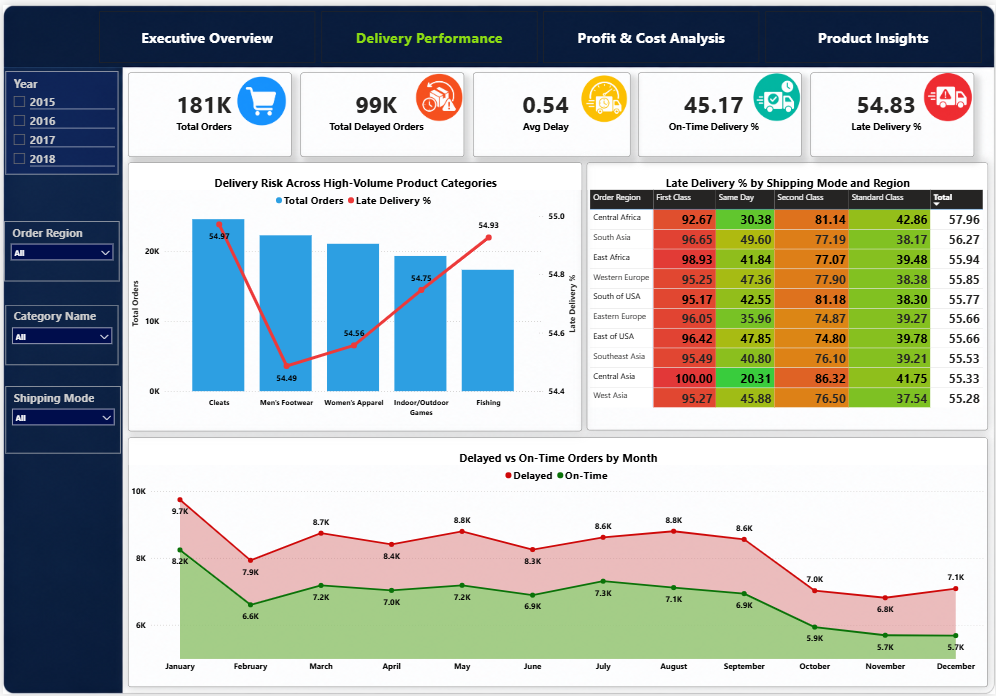

The dashboard page shown, as its layout file describes it:
{"tool":"powerbi","page":{"name":"Delivery Performance","canvas":[1652,1149],"ordinal":1},"visuals":[{"type":"card","title":"Total Revenue","fields":{"Values":["Measure.Total Orders"]},"box":[209,112,273.1,141],"z":0,"group":"g2"},{"type":"pivotTable","title":"Late Delivery % by Shipping Mode and Region","fields":{"Rows":["final_supply_chain_analytics.Order Region"],"Columns":["final_supply_chain_analytics.Shipping Mode"],"Values":["Measure.Late Delivery %"]},"box":[972,263,669,446],"z":0},{"type":"card","title":"Avg Delay","fields":{"Values":["Measure.On-Time Delivery %"]},"box":[1059.8,112,273.1,141],"z":1000,"group":"g2"},{"type":"lineChart","title":"Delayed vs On-Time Orders by Month","fields":{"Y":["CountNonNull(final_supply_chain_analytics.Delivery Status Group)"],"Series":["final_supply_chain_analytics.Delivery Status Group"],"Category":["final_supply_chain_analytics.order date (DateOrders).Variation.Date Hierarchy.Month"]},"box":[208,720,1433,416],"z":1000},{"type":"group","id":"g1","title":"Group 2","box":[209,112,1411,141],"z":2000},{"type":"card","title":"Total Order","fields":{"Values":["Measure.Avg Delay"]},"box":[783.2,112,262.5,141],"z":2000,"group":"g2"},{"type":"image","box":[384,112,96,96],"z":3000},{"type":"card","title":"Total Profit","fields":{"Values":["Measure.Total Delayed Orders"]},"box":[496.1,112,273.1,141],"z":3000,"group":"g2"},{"type":"card","title":"Late Delivery %","fields":{"Values":["Measure.Late Delivery %"]},"box":[1346.9,112,273.1,141],"z":4000,"group":"g2"},{"type":"lineClusteredColumnComboChart","title":"Delivery Risk Across High-Volume Product Categories","fields":{"Category":["final_supply_chain_analytics.Category Name"],"Y":["Measure.Total Orders"],"Y2":["Measure.Late Delivery %"]},"box":[208,263,757,448],"z":4000},{"type":"group","id":"g2","title":"Group 1","box":[209,112,1411,141],"z":4003,"group":"g1"},{"type":"image","box":[1242,107,96,96],"z":5000},{"type":"image","box":[679,107,96,96],"z":6000},{"type":"slicer","fields":{"Values":["final_supply_chain_analytics.Year"]},"box":[4,110,188,172],"z":7000},{"type":"slicer","fields":{"Values":["final_supply_chain_analytics.Order Region"]},"box":[3,360,192,100],"z":8000},{"type":"slicer","fields":{"Values":["final_supply_chain_analytics.Category Name"]},"box":[4,501,188,100],"z":9000},{"type":"slicer","fields":{"Values":["final_supply_chain_analytics.Shipping Mode"]},"box":[4,635,192,112],"z":10000},{"type":"image","box":[954,108,96,96],"z":11000},{"type":"image","box":[1527,107,96,96],"z":12000},{"type":"pageNavigator","box":[161,11,1473,86],"z":13000}]}

Visuals, with their boxes in screenshot pixels (x1, y1, x2, y2), scaled from the page's 1652x1149 canvas onto the 996x696 screenshot:
"Total Revenue" card: bbox(126, 68, 291, 153)
"Late Delivery % by Shipping Mode and Region" pivotTable: bbox(586, 159, 989, 429)
"Avg Delay" card: bbox(639, 68, 804, 153)
"Delayed vs On-Time Orders by Month" lineChart: bbox(125, 436, 989, 688)
"Group 2" group: bbox(126, 68, 977, 153)
"Total Order" card: bbox(472, 68, 630, 153)
image: bbox(232, 68, 289, 126)
"Total Profit" card: bbox(299, 68, 464, 153)
"Late Delivery %" card: bbox(812, 68, 977, 153)
"Delivery Risk Across High-Volume Product Categories" lineClusteredColumnComboChart: bbox(125, 159, 582, 431)
"Group 1" group: bbox(126, 68, 977, 153)
image: bbox(749, 65, 807, 123)
image: bbox(409, 65, 467, 123)
slicer - final_supply_chain_analytics.Year: bbox(2, 67, 116, 171)
slicer - final_supply_chain_analytics.Order Region: bbox(2, 218, 118, 279)
slicer - final_supply_chain_analytics.Category Name: bbox(2, 303, 116, 364)
slicer - final_supply_chain_analytics.Shipping Mode: bbox(2, 385, 118, 452)
image: bbox(575, 65, 633, 124)
image: bbox(921, 65, 979, 123)
pageNavigator: bbox(97, 7, 985, 59)
